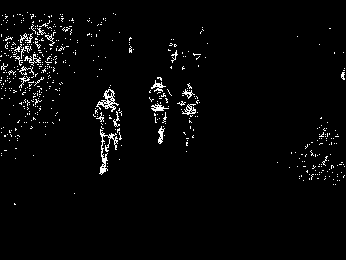person: (92, 86, 123, 176), (147, 75, 172, 146), (175, 80, 199, 152)
